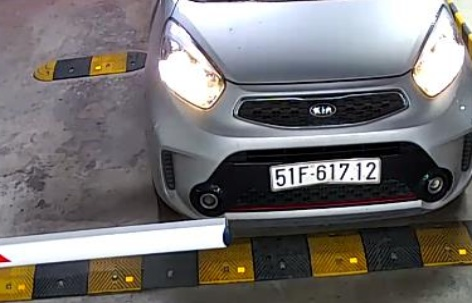plate: (267, 152, 381, 197)
